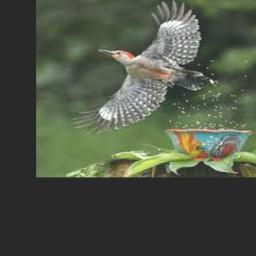Woodpecker: (72, 1, 211, 132)
